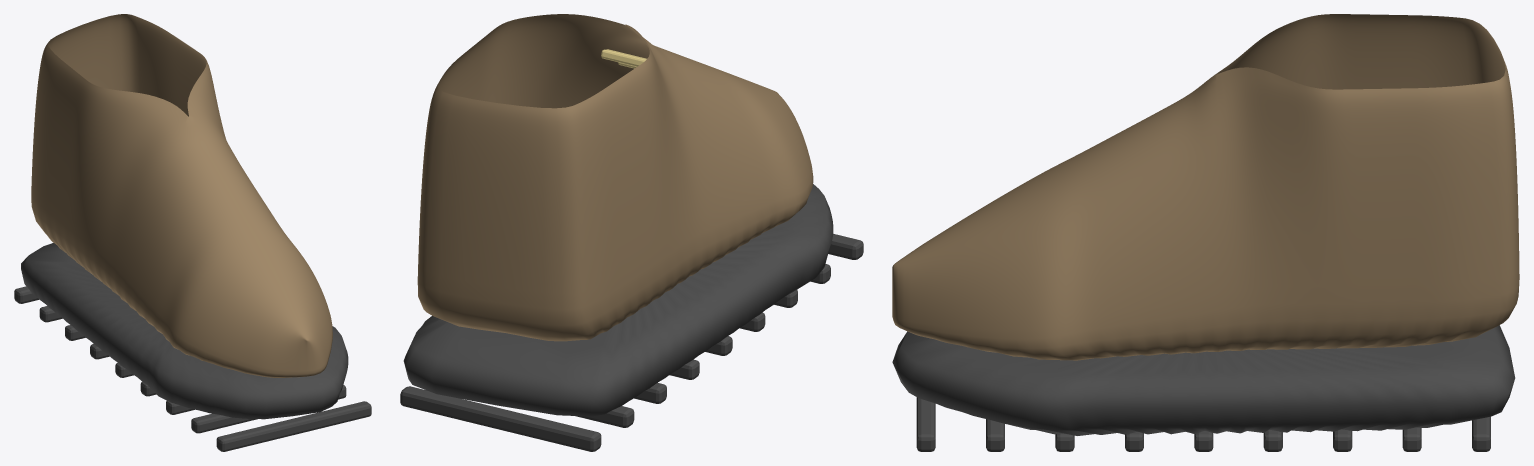
The model's file is shoe_boot.glb.
3 views of the same model, side by side, from view 1: azimuth 30°, elevation 25°; view 2: azimuth 150°, elevation 25°; view 3: azimuth 270°, elevation 25° (orthographic). The views are drawn at different scales.
Visible parts, largest first — view 1: upper, sole, Cube.008, Cube.007; view 2: upper, sole, Cube, Cube.008, Cube.001; view 3: upper, sole, Cube.008, Cube.
Boxes of the visible parts, left/top/right/bottom form: upper: left=31, top=14, right=332, bottom=377; sole: left=21, top=243, right=348, bottom=419; Cube.008: left=216, top=401, right=371, bottom=451; Cube.007: left=191, top=385, right=346, bottom=433; upper: left=417, top=14, right=813, bottom=341; sole: left=403, top=184, right=833, bottom=416; Cube: left=400, top=386, right=601, bottom=451; Cube.008: left=828, top=234, right=863, bottom=259; Cube.001: left=575, top=406, right=634, bottom=427; upper: left=892, top=14, right=1519, bottom=360; sole: left=892, top=325, right=1515, bottom=435; Cube.008: left=916, top=397, right=935, bottom=451; Cube: left=1472, top=416, right=1490, bottom=451.
Size of the model in its own units: 0.1201 by 0.162 by 0.262.
